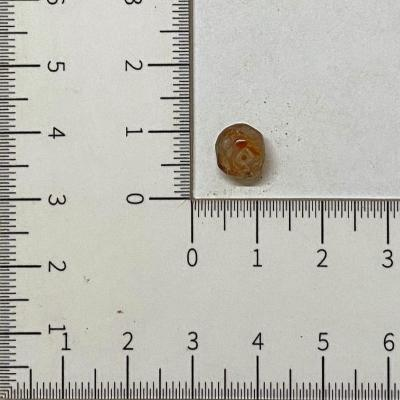archeology: (214, 124, 266, 180)
